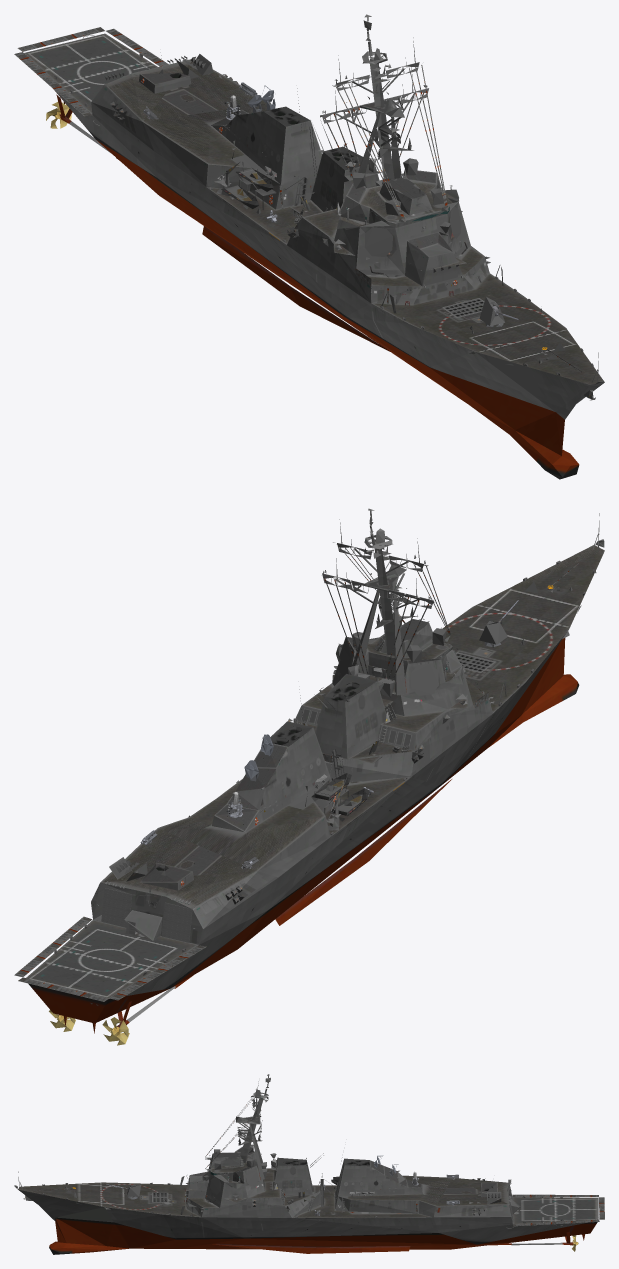
File: navy_destroyer.glb
3 renders of one model, top to bottom at view 1: azimuth 30°, elevation 25°; view 2: azimuth 150°, elevation 25°; view 3: azimuth 270°, elevation 25°, orthographic. The views are drawn at different scales.
Parts seen in each view (by area): view 1: navy_destroyer; view 2: navy_destroyer; view 3: navy_destroyer.
Boxes of the visible parts, box(x1,y1,x2,y2) form: navy_destroyer: box(14, 14, 604, 479); navy_destroyer: box(14, 508, 604, 1045); navy_destroyer: box(14, 1074, 604, 1254).
Size of the model in its own units: 21.81 by 51.44 by 155.
Materials: 6 (6 with a texture image).
